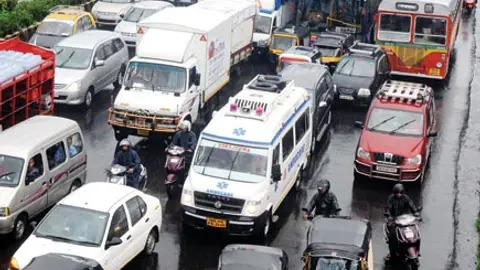AMBULANCE: (172, 77, 319, 241)
